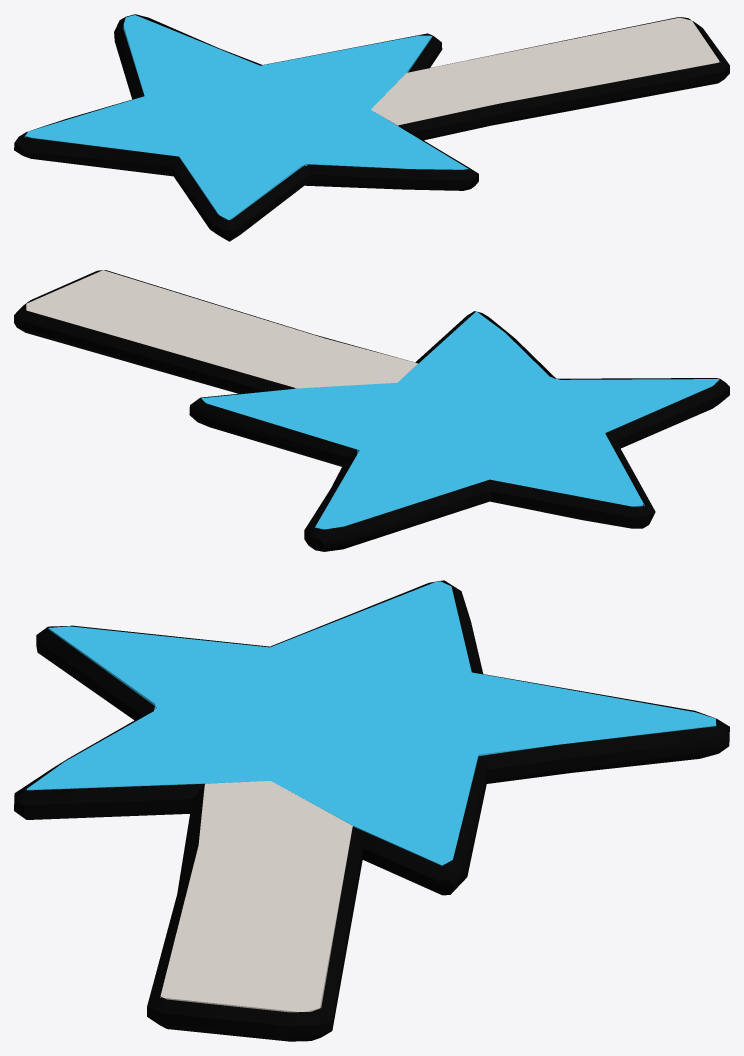
Rendered from Presilha.fbx.
3 views of the same model, one above another, from view 1: azimuth 30°, elevation 25°; view 2: azimuth 150°, elevation 25°; view 3: azimuth 270°, elevation 25° (orthographic). The views are drawn at different scales.
Visible parts, largest first — view 1: Presilha; view 2: Presilha; view 3: Presilha.
Part boxes in pixels (x1,y1,x2,y2): Presilha: (14, 14, 729, 241); Presilha: (14, 270, 729, 551); Presilha: (14, 580, 729, 1041).
Size of the model in its own units: 149 by 4.72 by 102.
